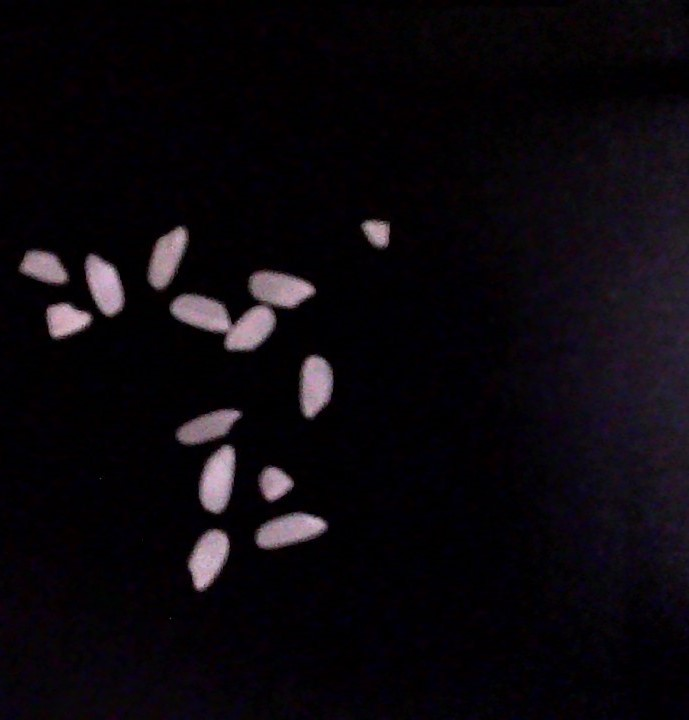broken_grain: (230, 302, 278, 357), (17, 247, 70, 287), (44, 300, 96, 339), (257, 462, 293, 506), (359, 213, 393, 252)
complete_grain: (139, 222, 189, 292), (250, 511, 334, 552), (185, 526, 234, 595), (243, 265, 319, 309), (83, 248, 129, 318), (198, 444, 239, 518), (295, 352, 337, 424), (169, 292, 233, 337), (172, 404, 243, 444)
